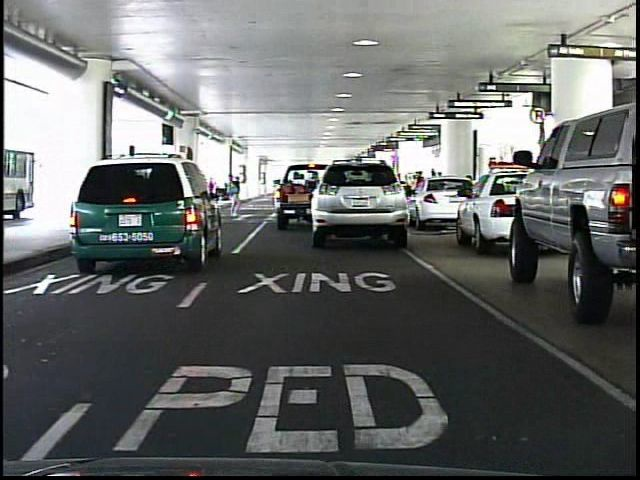person: (220, 168, 244, 221)
